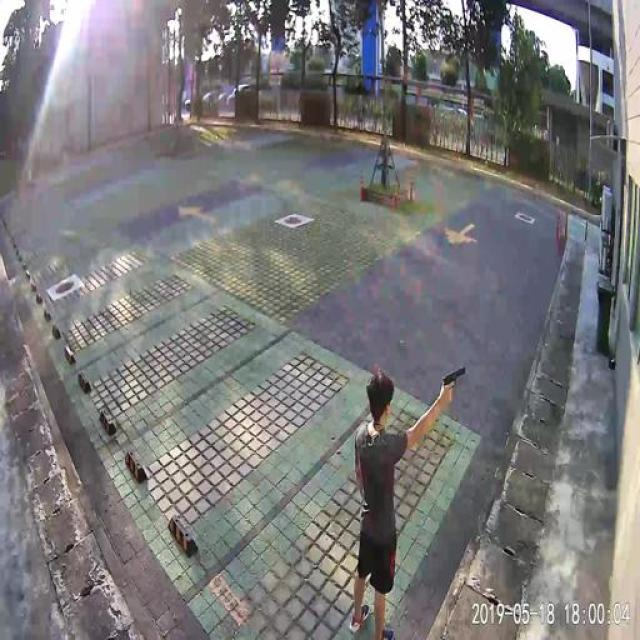Gun: (438, 362, 468, 392)
